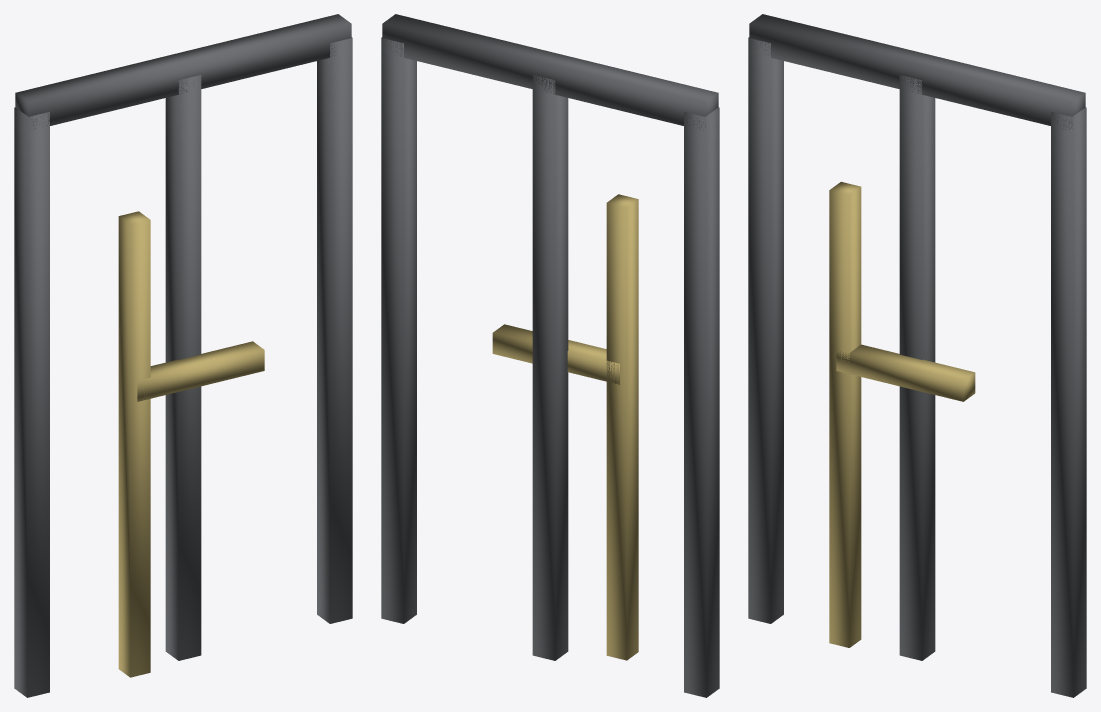
Rendered from steel_gate_l60_h110.glb.
3 views of the same model, side by side, from view 1: azimuth 30°, elevation 25°; view 2: azimuth 150°, elevation 25°; view 3: azimuth 330°, elevation 25° (orthographic).
Parts seen in each view (by area): view 1: world; view 2: world; view 3: world.
Part boxes in pixels (bbox=[...]): world: bbox=[14, 14, 352, 697]; world: bbox=[381, 14, 719, 697]; world: bbox=[748, 14, 1086, 697].
Size of the model in its own units: 0.645 by 1.13 by 0.0825.
